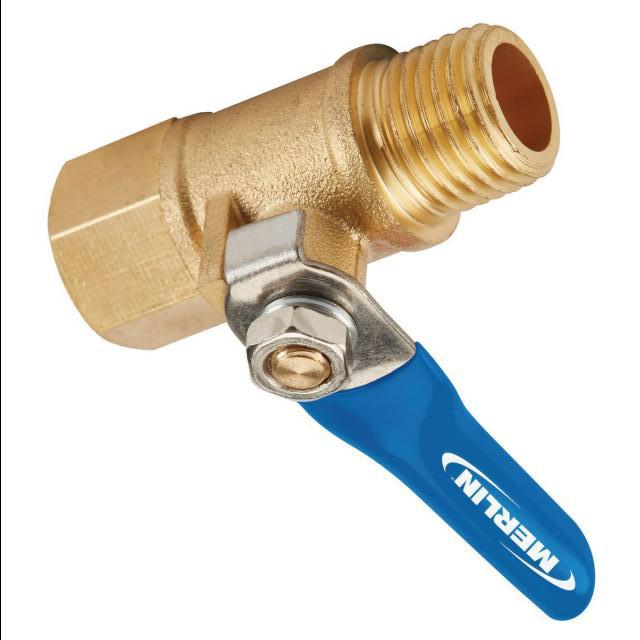closed valve: (49, 22, 597, 624)
